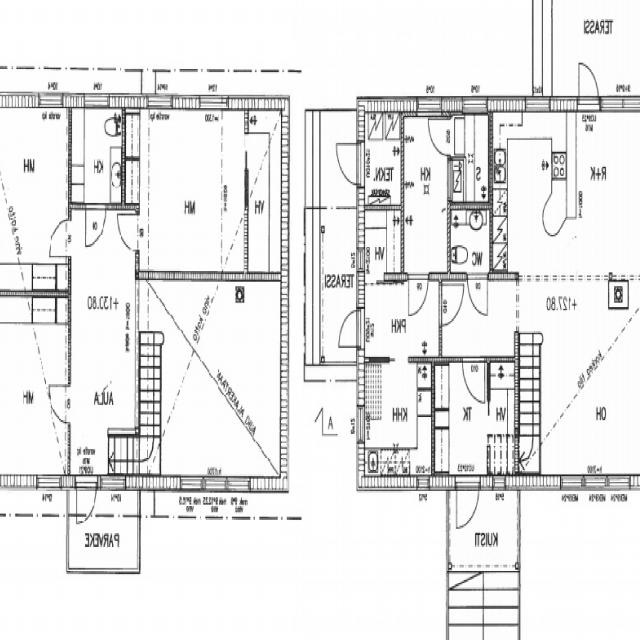door: (334, 144, 365, 186), (457, 476, 479, 530), (76, 475, 96, 526), (438, 285, 464, 324), (462, 356, 484, 402), (338, 310, 364, 346), (579, 62, 598, 111), (86, 204, 106, 248), (409, 272, 428, 316), (428, 120, 451, 156), (116, 215, 139, 250), (468, 272, 487, 314), (49, 386, 71, 422), (49, 220, 71, 256)
